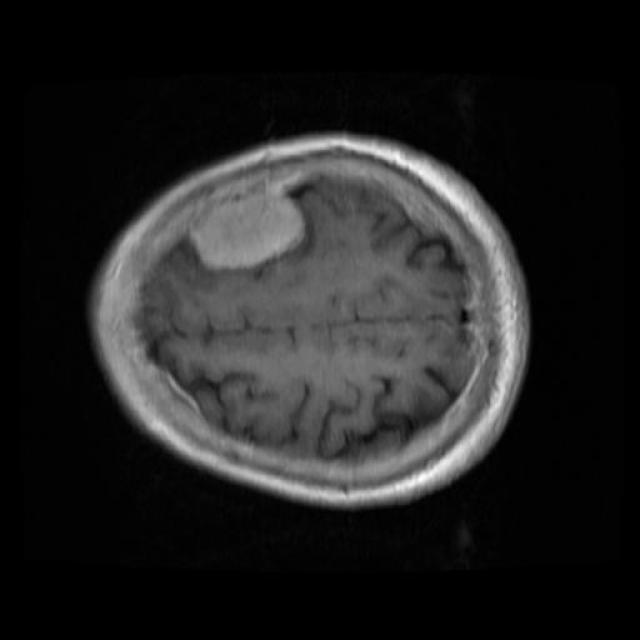Meningioma: (189, 181, 305, 270)
